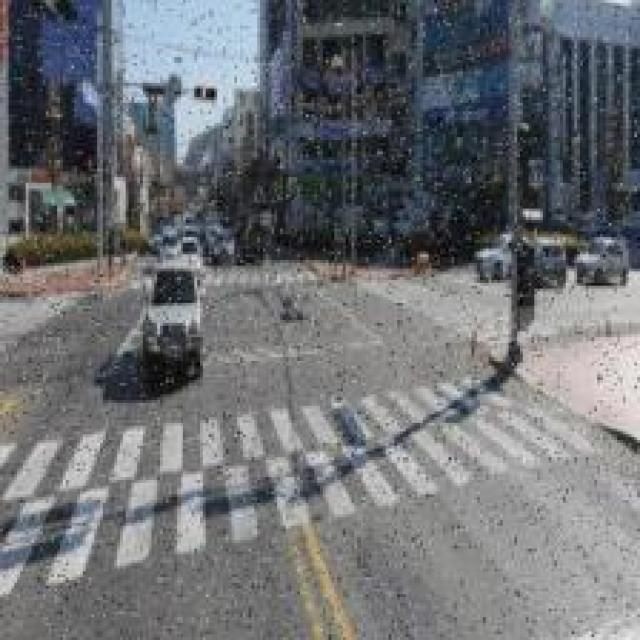walk-crossing: (0, 366, 637, 600), (124, 260, 340, 293)
